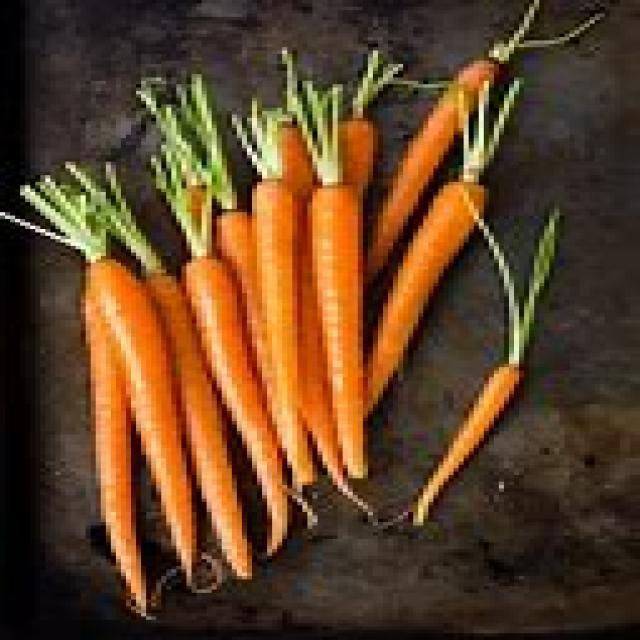carrot: (89, 262, 194, 579), (189, 262, 291, 558), (362, 183, 488, 416), (313, 185, 372, 481), (261, 164, 312, 484)
